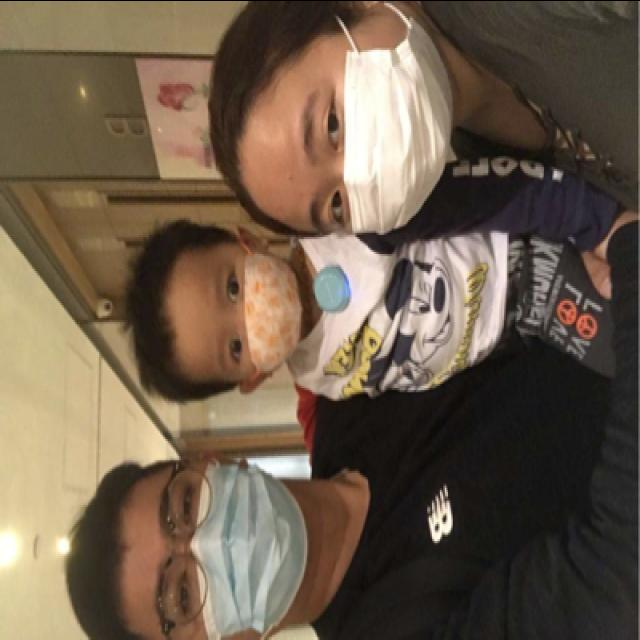mask: (294, 8, 458, 232), (148, 455, 310, 638), (207, 242, 306, 380)
